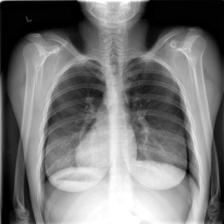normal: (35, 53, 204, 223)
